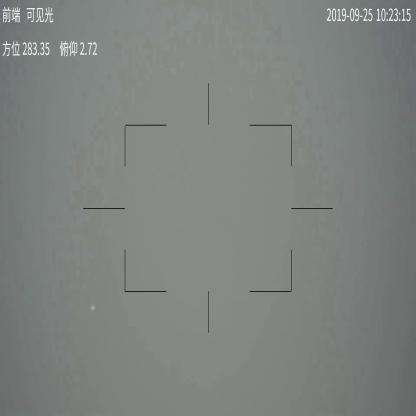uav: (89, 304, 96, 312)
